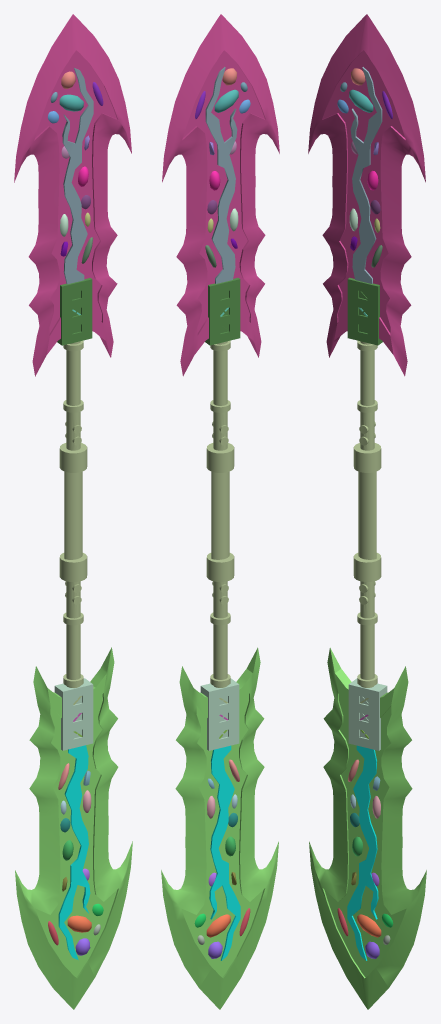
The picture shows the model from 3 angles, left to right: view 1: azimuth 30°, elevation 25°; view 2: azimuth 210°, elevation 25°; view 3: azimuth 330°, elevation 25°; orthographic projection.
Visible parts, largest first — view 1: split_parent_0, split_parent_12, sword_low_sword_0.167, sword_low_sword_0.286, sword_low_sword_0.457, sword_low_sword_0.367, sword_low_sword_0.196, sword_low_sword_0.006, sword_low_sword_0.070; view 2: split_parent_0, split_parent_12, sword_low_sword_0.167, sword_low_sword_0.286, sword_low_sword_0.457, sword_low_sword_0.367, sword_low_sword_0.196, sword_low_sword_0.006, sword_low_sword_0.070; view 3: split_parent_0, split_parent_12, sword_low_sword_0.167, sword_low_sword_0.286, sword_low_sword_0.457, sword_low_sword_0.367, sword_low_sword_0.196, sword_low_sword_0.006, sword_low_sword_0.070.
Part boxes in pixels (box(x1,y1,x2,y2)): split_parent_0: box(14, 14, 131, 376); split_parent_12: box(15, 647, 132, 1009); sword_low_sword_0.167: box(59, 340, 87, 688); sword_low_sword_0.286: box(62, 68, 93, 284); sword_low_sword_0.457: box(58, 745, 90, 959); sword_low_sword_0.367: box(54, 678, 93, 750); sword_low_sword_0.196: box(57, 278, 92, 345); sword_low_sword_0.006: box(59, 94, 83, 111); sword_low_sword_0.070: box(67, 915, 91, 932); split_parent_0: box(162, 14, 279, 376); split_parent_12: box(161, 647, 278, 1009); sword_low_sword_0.167: box(206, 340, 234, 687); sword_low_sword_0.286: box(205, 67, 237, 283); sword_low_sword_0.457: box(209, 745, 240, 960); sword_low_sword_0.367: box(200, 678, 239, 750); sword_low_sword_0.196: box(205, 277, 240, 345); sword_low_sword_0.006: box(214, 89, 238, 112); sword_low_sword_0.070: box(206, 914, 230, 937); split_parent_0: box(308, 14, 425, 376); split_parent_12: box(309, 647, 426, 1009); sword_low_sword_0.167: box(353, 340, 381, 687); sword_low_sword_0.286: box(350, 67, 382, 283); sword_low_sword_0.457: box(347, 745, 378, 960); sword_low_sword_0.367: box(348, 678, 387, 750); sword_low_sword_0.196: box(347, 277, 382, 345); sword_low_sword_0.006: box(349, 89, 373, 112); sword_low_sword_0.070: box(357, 914, 381, 937).
Size of the model in its own units: 0.1249 by 1 by 0.0252.
